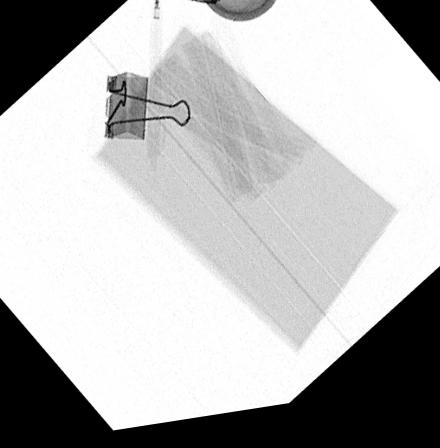Bullet: (177, 0, 216, 10)
